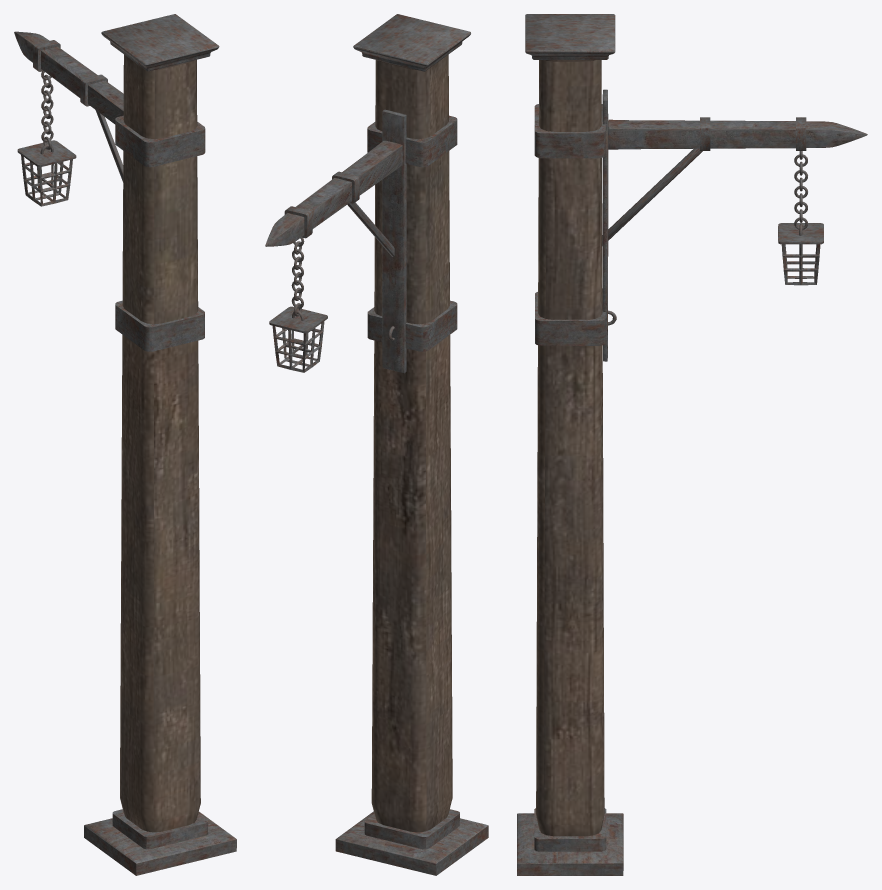
File: poste_vila.glb
3 renders of one model, left to right at view 1: azimuth 30°, elevation 25°; view 2: azimuth 150°, elevation 25°; view 3: azimuth 270°, elevation 25°, orthographic.
Parts seen in each view (by area): view 1: Lamppost; view 2: Lamppost; view 3: Lamppost.
Part boxes in pixels (bbox=[...]): Lamppost: bbox=[14, 14, 236, 875]; Lamppost: bbox=[265, 14, 488, 875]; Lamppost: bbox=[517, 14, 867, 875].
Bounding box in the file's own units: 1.14 × 8.73 × 3.39.
Materials: 2 (2 with a texture image).
